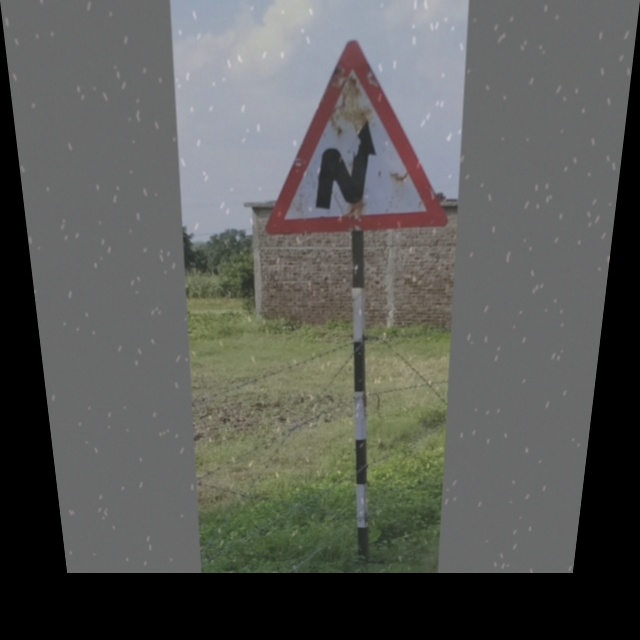Right_Reverse_Bend: (264, 40, 457, 231)
